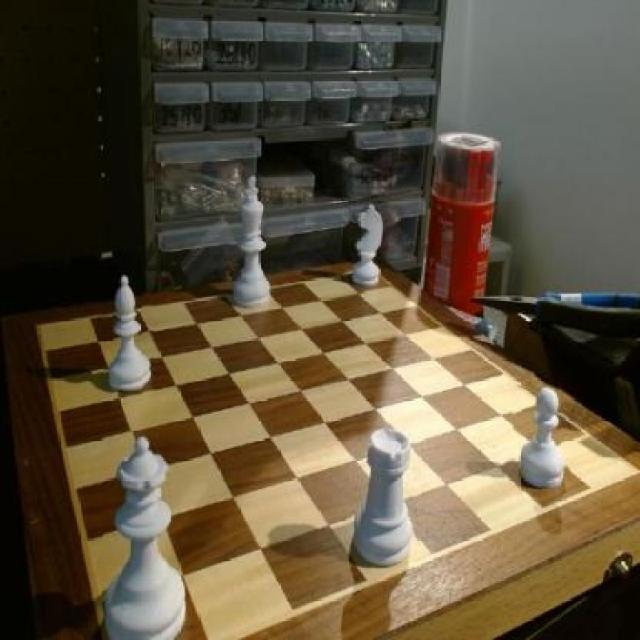black-rook: (101, 268, 154, 395)
white-bishop: (228, 172, 276, 312)
white-king: (346, 205, 391, 293)
white-knight: (514, 383, 571, 498)
white-pawn: (103, 431, 200, 640)
white-queen: (351, 424, 421, 574)
